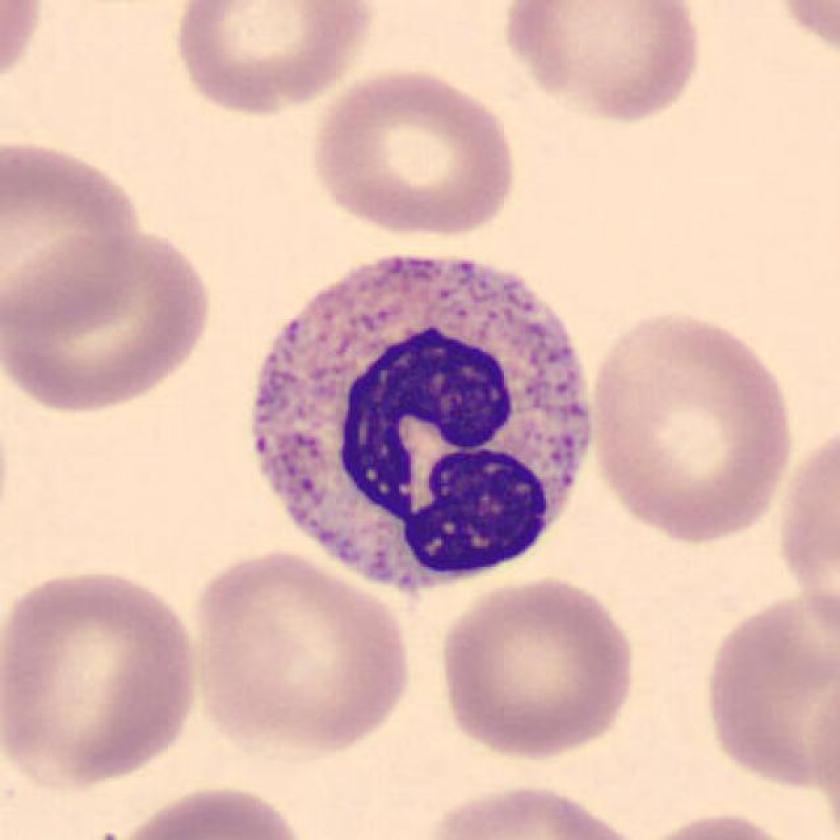neutrophil: (253, 255, 589, 587)
